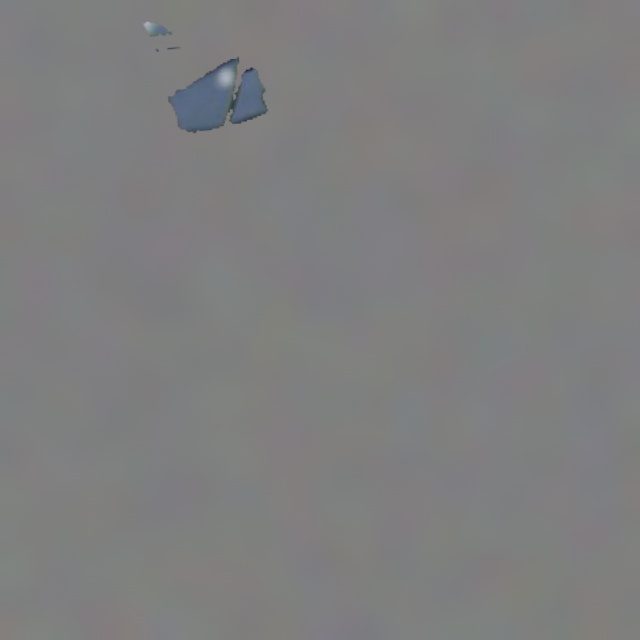passion flower: (143, 22, 267, 132)
